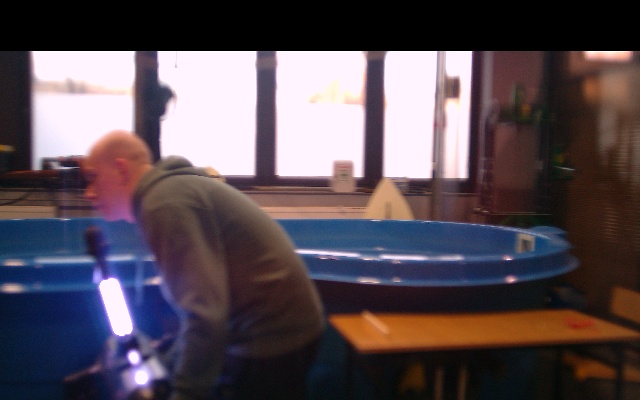white: (99, 277, 134, 337)
